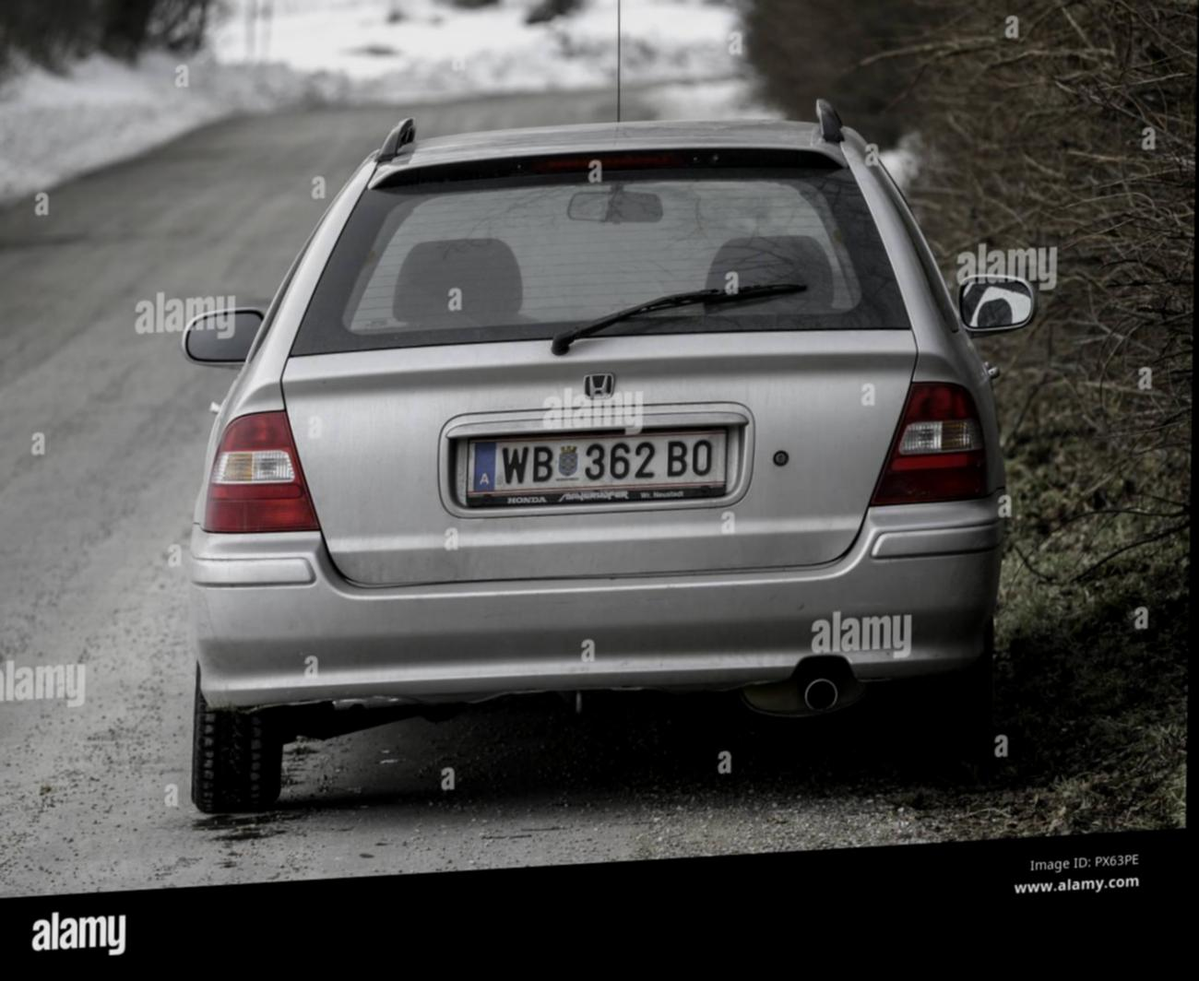License_Plate: (454, 409, 752, 531)
